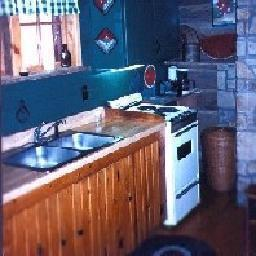Electrodomestico: (169, 112, 202, 214)
Lavaplatos: (9, 123, 124, 180)
